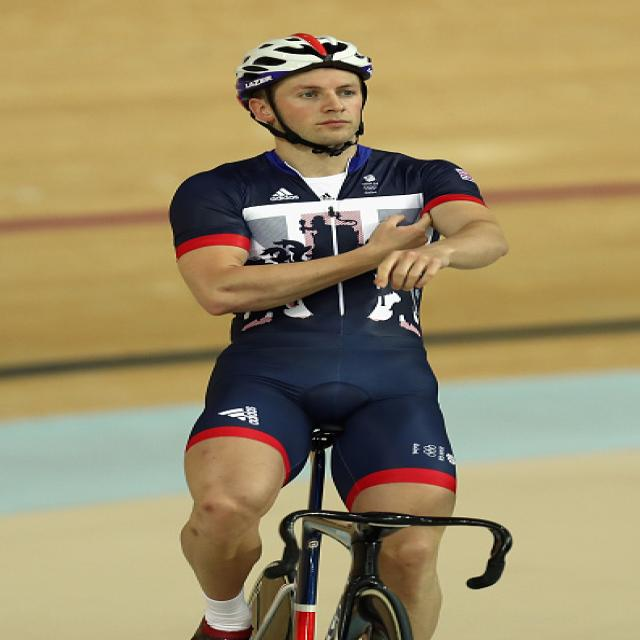Helmet: (218, 17, 381, 159)
